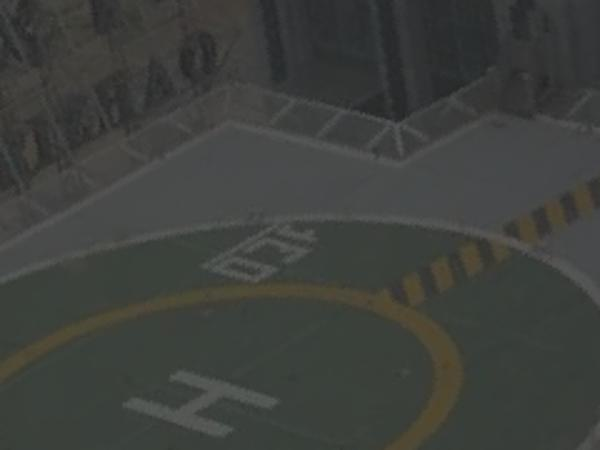Apron: (5, 269, 475, 450)
